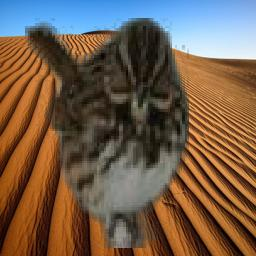Sparrow: (25, 18, 189, 248)
